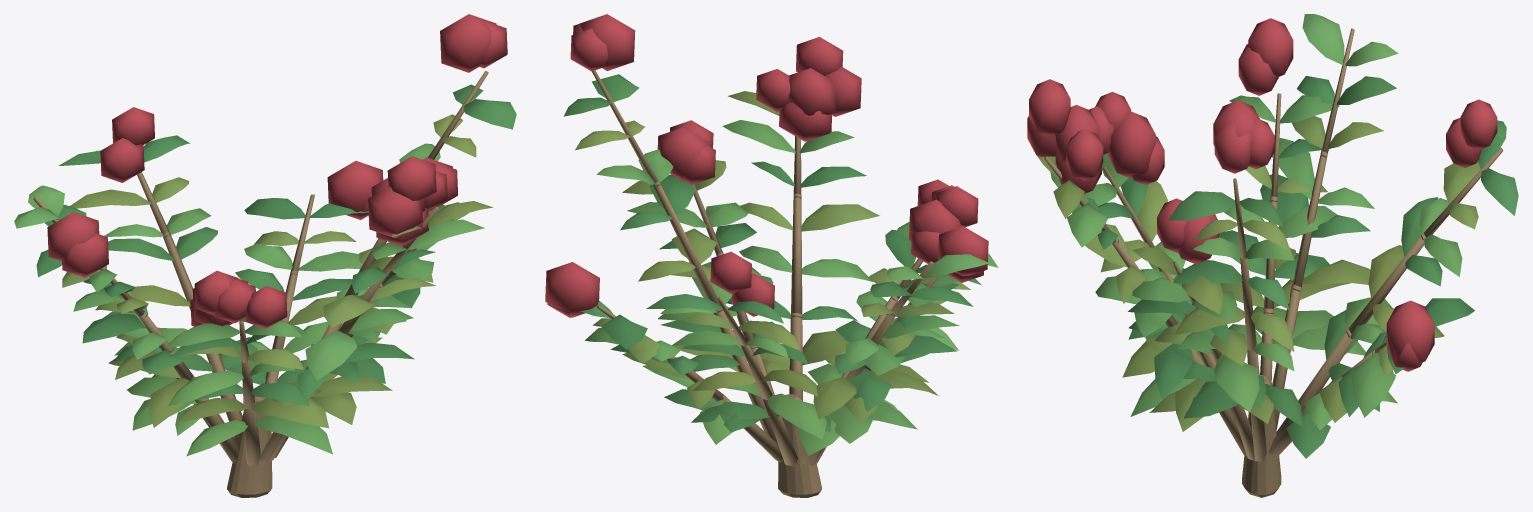
File: bush_berry.glb
3 views of the same model, side by side, from view 1: azimuth 30°, elevation 25°; view 2: azimuth 150°, elevation 25°; view 3: azimuth 270°, elevation 25° (orthographic). The views are drawn at different scales.
Visible parts, largest first — view 1: bush_berry; view 2: bush_berry; view 3: bush_berry.
Boxes of the visible parts, x1,y1,x2,y2 form: bush_berry: (14,14,516,497); bush_berry: (545,14,998,497); bush_berry: (1027,14,1518,497).
Bounding box in the file's own units: 1.22 × 1.11 × 0.9753.
